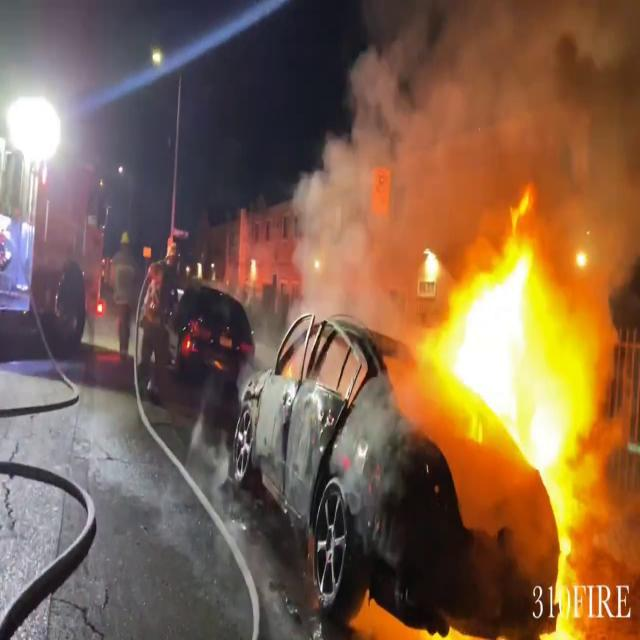Fire: (426, 183, 609, 492)
Smoke: (296, 0, 640, 284)
